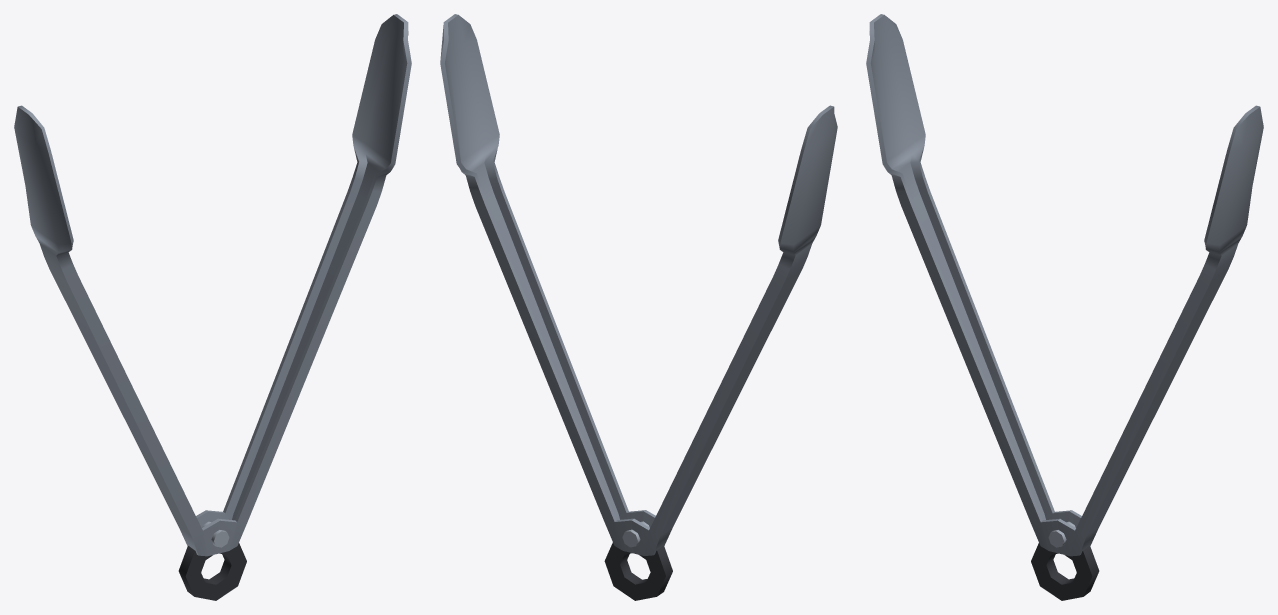
File: cutensils_tongs_open.glb
3 views of the same model, side by side, from view 1: azimuth 30°, elevation 25°; view 2: azimuth 150°, elevation 25°; view 3: azimuth 330°, elevation 25° (orthographic).
Parts seen in each view (by area): view 1: cutensils tongs open; view 2: cutensils tongs open; view 3: cutensils tongs open.
Boxes of the visible parts, bbox=[...] form: cutensils tongs open: bbox=[14, 14, 411, 600]; cutensils tongs open: bbox=[440, 14, 837, 600]; cutensils tongs open: bbox=[866, 14, 1263, 600].
Size of the model in its own units: 4.91 by 6.61 by 0.9183.
1 material, 1 textured.
